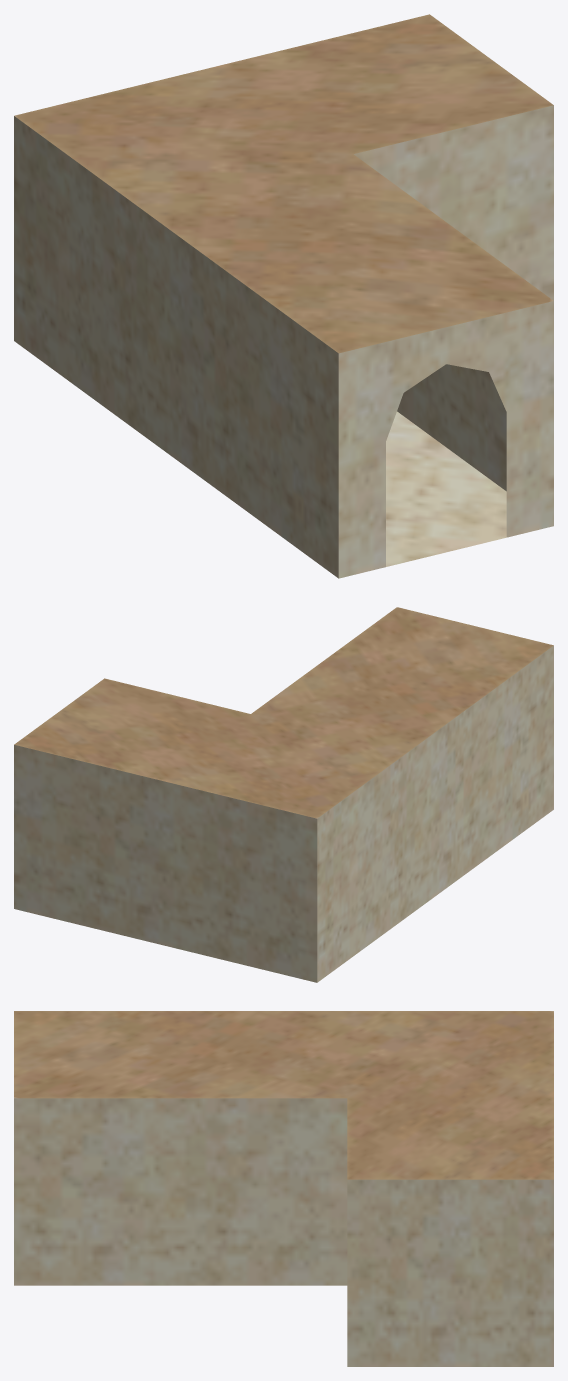
The model's file is thm_tato_imprv_building_s09_r1_foyer_mesh_l1.fbx.
3 views of the same model, one above another, from view 1: azimuth 30°, elevation 25°; view 2: azimuth 150°, elevation 25°; view 3: azimuth 270°, elevation 25° (orthographic). The views are drawn at different scales.
Parts seen in each view (by area): view 1: mesh_node; view 2: mesh_node; view 3: mesh_node.
Part boxes in pixels (left/top/right/bottom): mesh_node: left=14, top=14, right=553, bottom=578; mesh_node: left=14, top=607, right=553, bottom=982; mesh_node: left=14, top=1011, right=553, bottom=1366.
Size of the model in its own units: 7.73 by 4 by 10.45.
